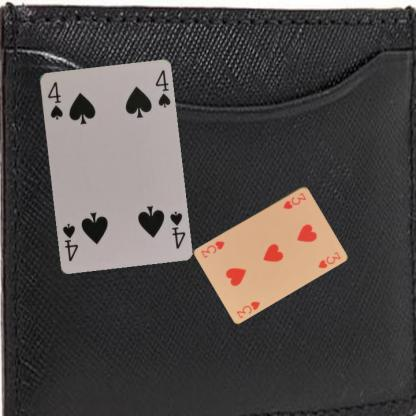3h: (234, 298, 262, 320), (281, 190, 307, 210)
4s: (167, 208, 187, 250), (45, 78, 64, 121)
